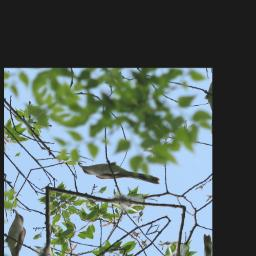Cuckoo: (76, 135, 161, 213)
